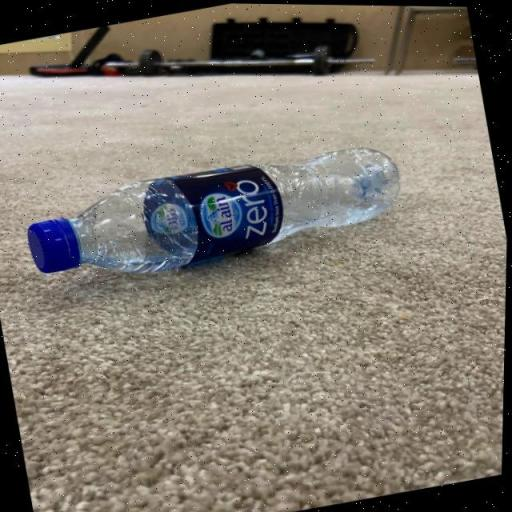plastic: (17, 125, 414, 302)
